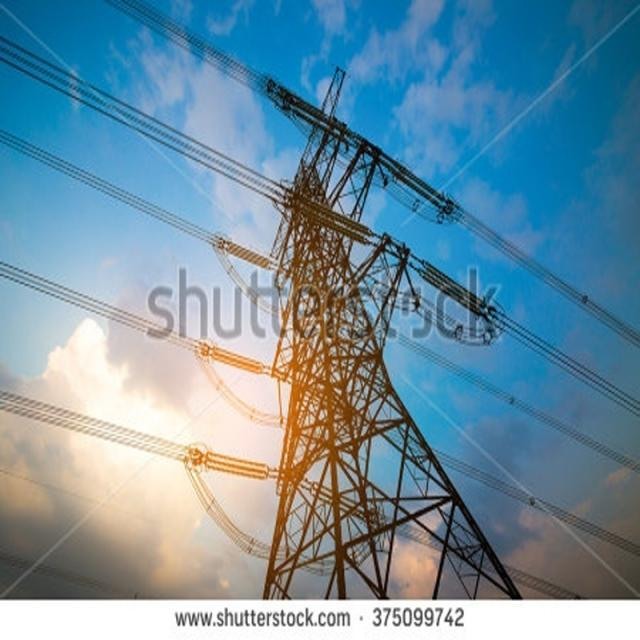non-critical vegetation: (218, 71, 542, 601)
